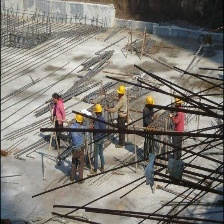helmet: (74, 112, 84, 124), (146, 94, 154, 107), (93, 104, 102, 113), (117, 86, 125, 95)
person: (69, 114, 87, 182), (92, 101, 106, 175), (116, 88, 128, 150)
